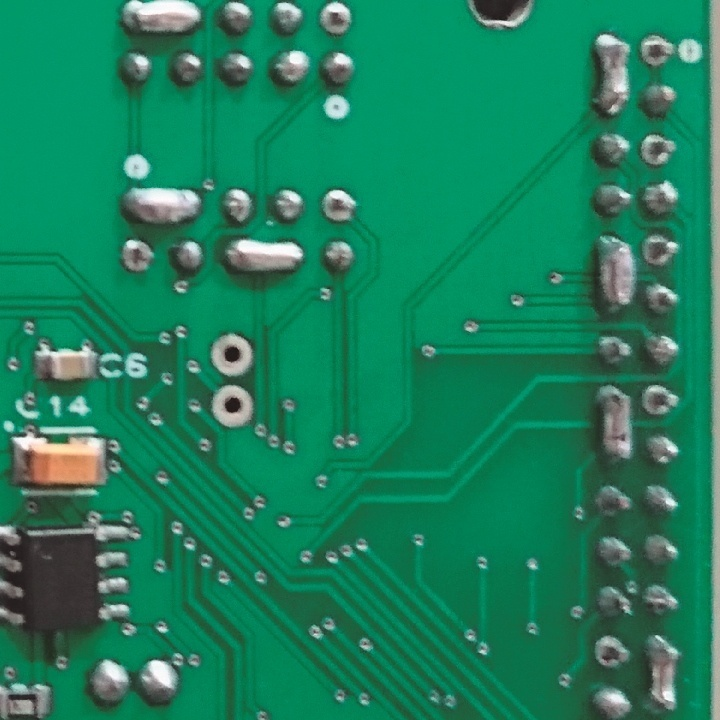F: (208, 379, 257, 429), (207, 332, 255, 379), (641, 232, 687, 281), (642, 380, 682, 423), (592, 633, 631, 674), (638, 29, 676, 71), (640, 131, 678, 170), (318, 1, 355, 40), (119, 236, 156, 275), (319, 186, 359, 222)
P: (119, 180, 201, 227), (592, 231, 636, 318), (641, 628, 684, 717), (593, 381, 635, 471), (224, 232, 309, 276), (593, 30, 633, 119), (119, 1, 200, 38)
